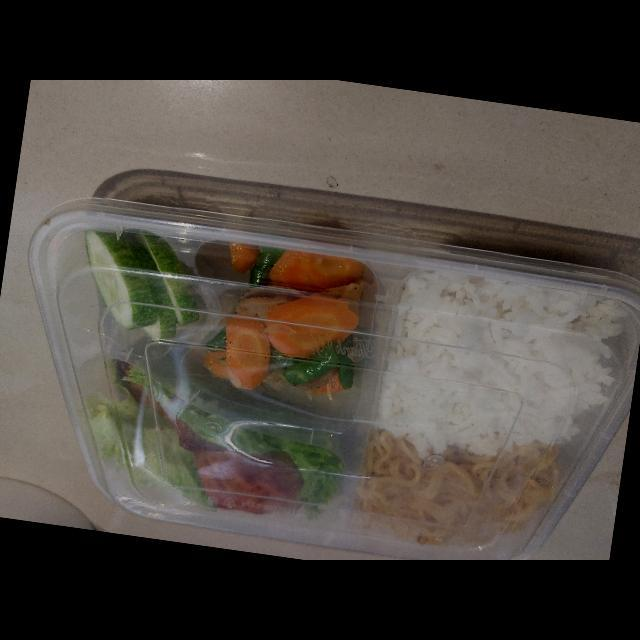bento: (30, 196, 640, 560)
